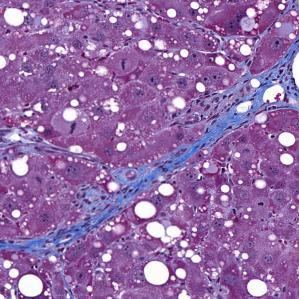fibrosis: (216, 65, 292, 123)
